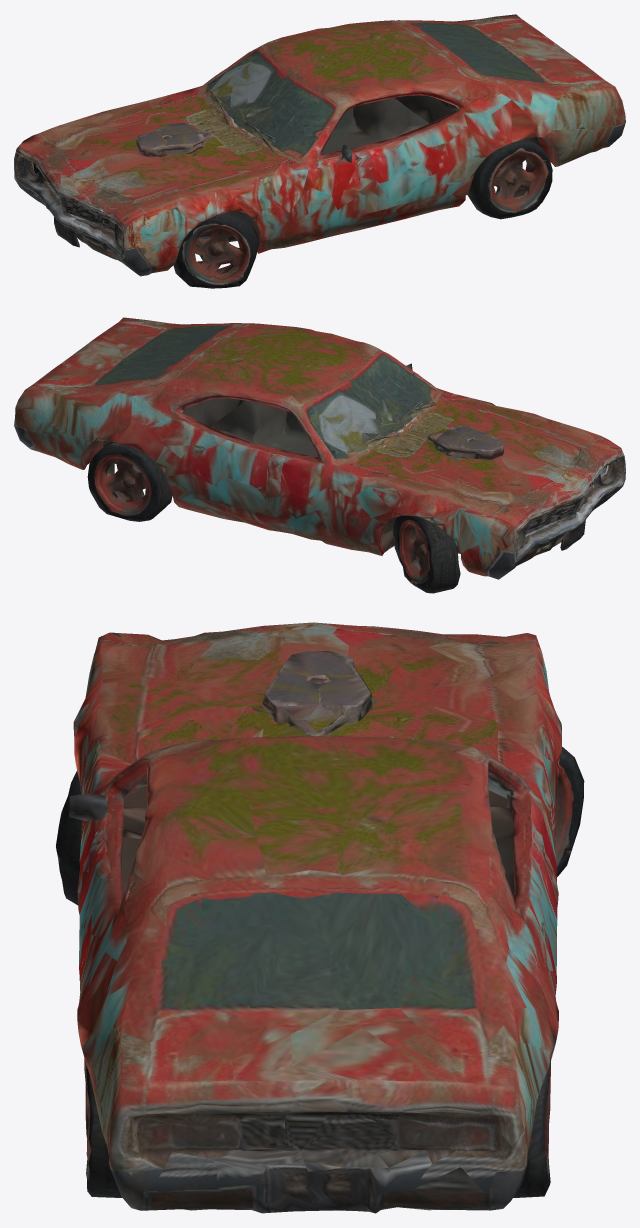
Rendered from autowrack.glb.
The picture shows the model from 3 angles, top to bottom: view 1: azimuth 30°, elevation 25°; view 2: azimuth 150°, elevation 25°; view 3: azimuth 270°, elevation 25°; orthographic projection. The views are drawn at different scales.
Parts seen in each view (by area): view 1: modell; view 2: modell; view 3: modell.
Boxes of the visible parts, x1,y1,x2,y2 form: modell: [14, 14, 625, 288]; modell: [14, 317, 625, 593]; modell: [56, 622, 584, 1213].
Bounding box in the file's own units: 1.9 × 0.5168 × 0.8375.
1 material, 1 textured.
